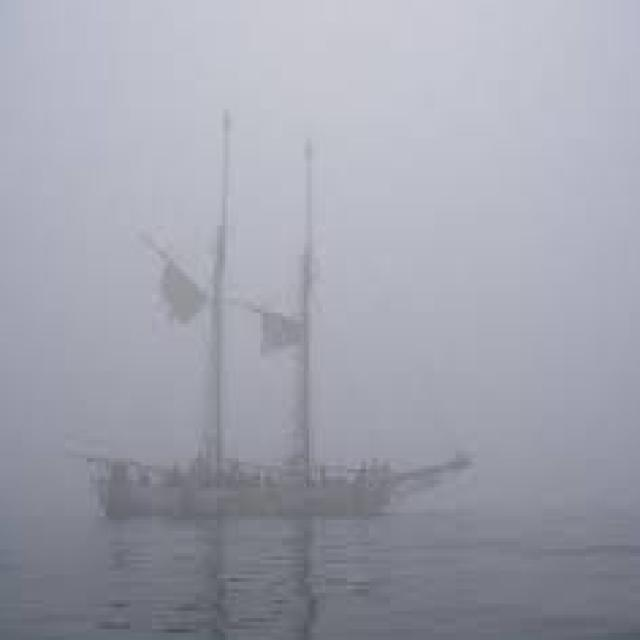fishing boat: (76, 114, 463, 553)
